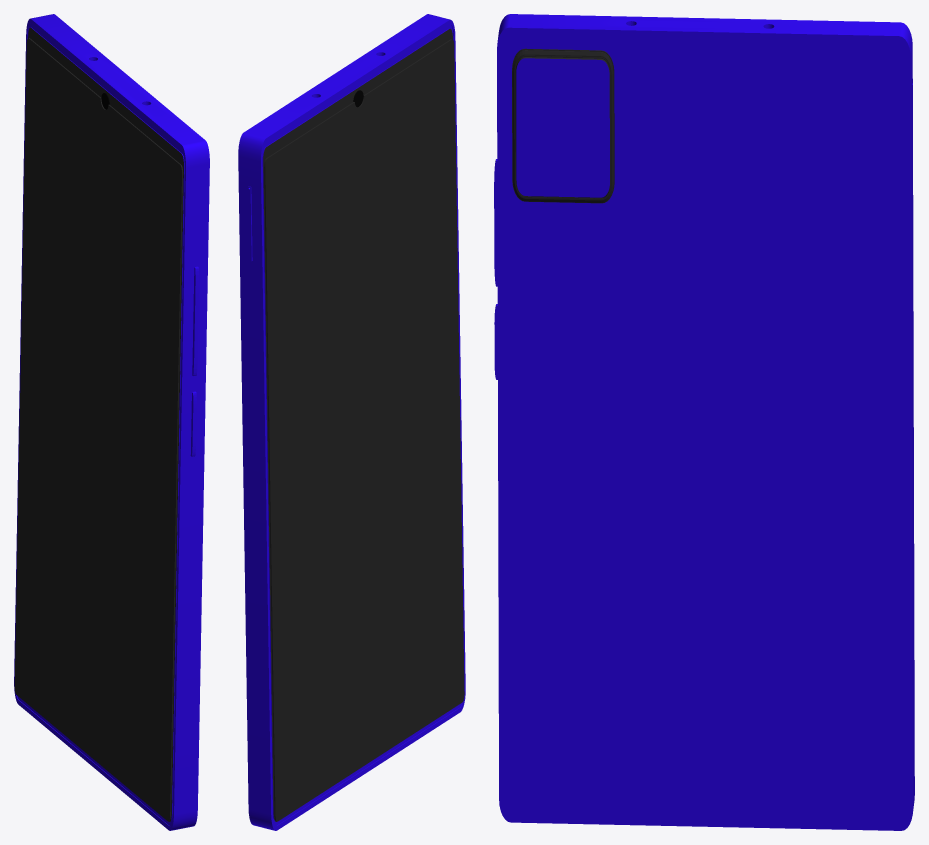
The model's file is phone.glb.
3 views of the same model, side by side, from view 1: azimuth 30°, elevation 25°; view 2: azimuth 150°, elevation 25°; view 3: azimuth 270°, elevation 25° (orthographic). The views are drawn at different scales.
Visible parts, largest first — view 1: Screen Protector, Main Phone, Cube; view 2: Screen Protector, Main Phone; view 3: Main Phone, Cube.001, Cube.
Boxes of the visible parts, x1,y1,x2,y2 form: Screen Protector: (14, 38, 183, 821); Main Phone: (14, 14, 209, 830); Cube: (190, 266, 198, 456); Screen Protector: (264, 39, 464, 821); Main Phone: (238, 14, 465, 830); Main Phone: (497, 14, 914, 830); Cube.001: (512, 48, 614, 203); Cube: (494, 159, 497, 379).
Size of the model in its own units: 0.6429 by 8.03 by 3.81.
